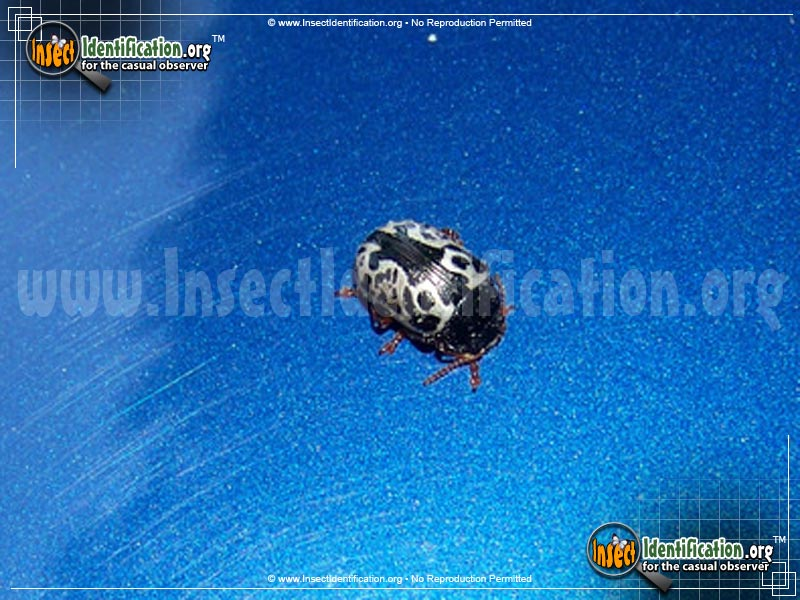Calligrapha Beetle: (328, 194, 519, 392)
